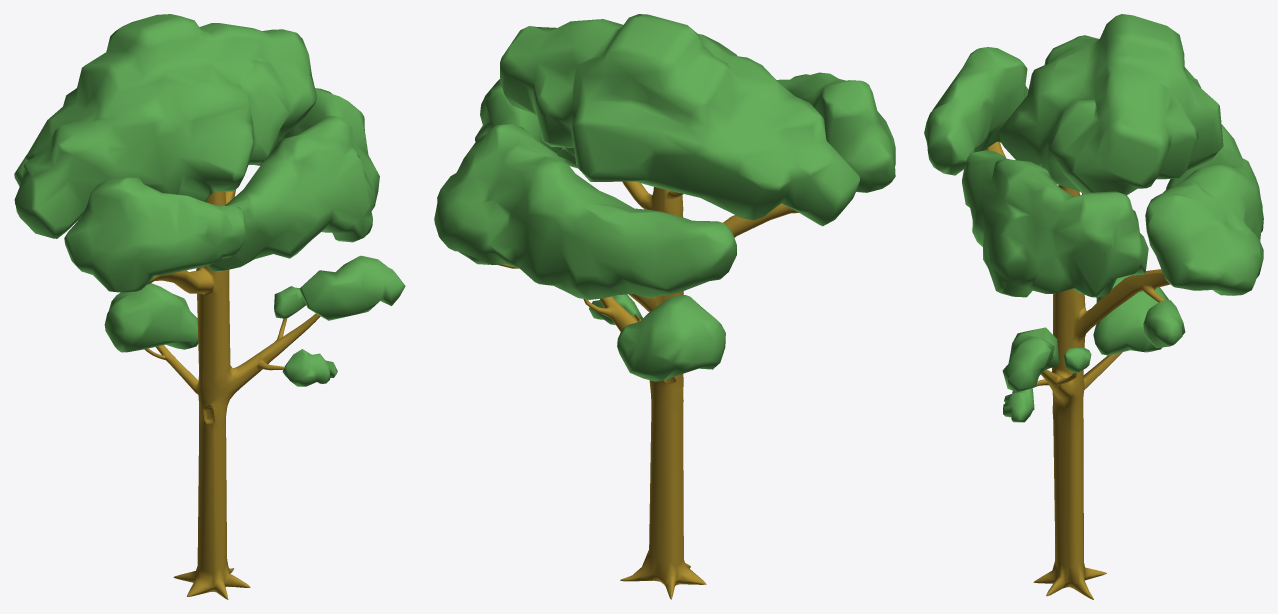
The model's file is Mahogany_Tree_2.fbx.
3 renders of one model, left to right at view 1: azimuth 30°, elevation 25°; view 2: azimuth 150°, elevation 25°; view 3: azimuth 270°, elevation 25°, orthographic. The views are drawn at different scales.
Visible parts, largest first — view 1: Leaf_05_low; view 2: Leaf_05_low; view 3: Leaf_05_low.
Boxes of the visible parts, x1,y1,x2,y2 form: Leaf_05_low: (14,14,405,599); Leaf_05_low: (434,14,895,599); Leaf_05_low: (924,14,1263,599).
Bounding box in the file's own units: 131 × 198 × 111.
